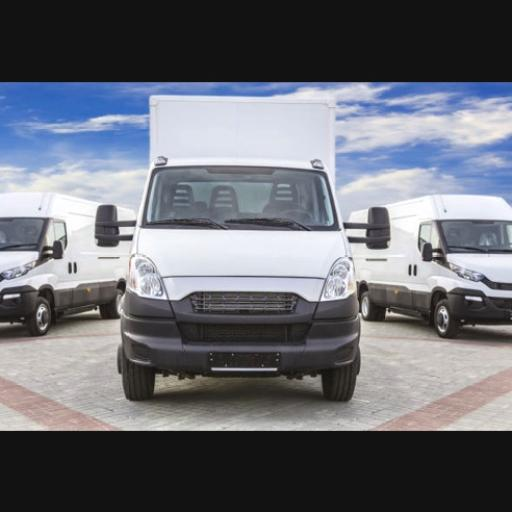truck: (146, 92, 336, 236)
van: (94, 154, 392, 402), (342, 190, 512, 338), (0, 191, 138, 334)
